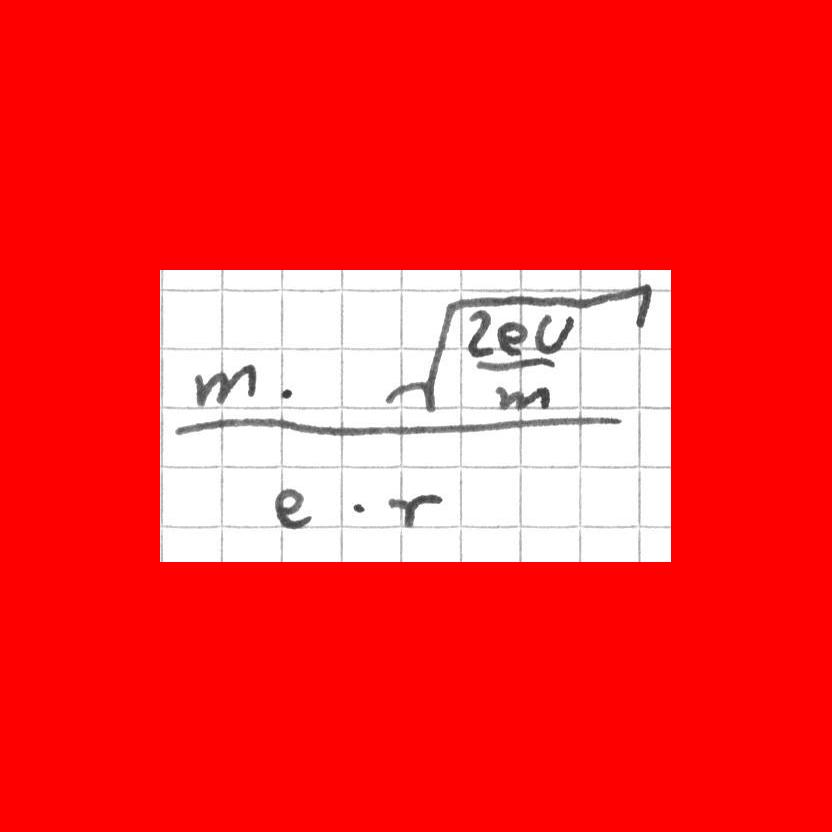Char: (166, 410, 622, 435), (378, 305, 461, 412), (193, 361, 257, 410), (385, 489, 441, 530), (531, 309, 576, 354), (270, 486, 317, 528), (491, 381, 551, 413), (466, 303, 495, 357), (496, 318, 531, 357), (471, 356, 556, 371), (348, 496, 371, 518), (274, 382, 297, 404)
